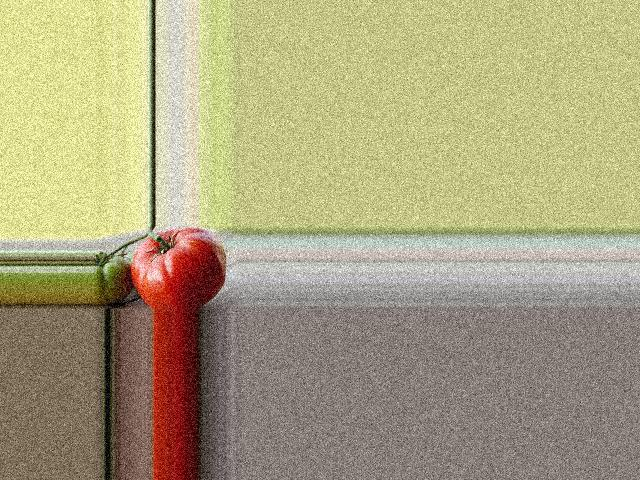tomato: (131, 227, 227, 310)
